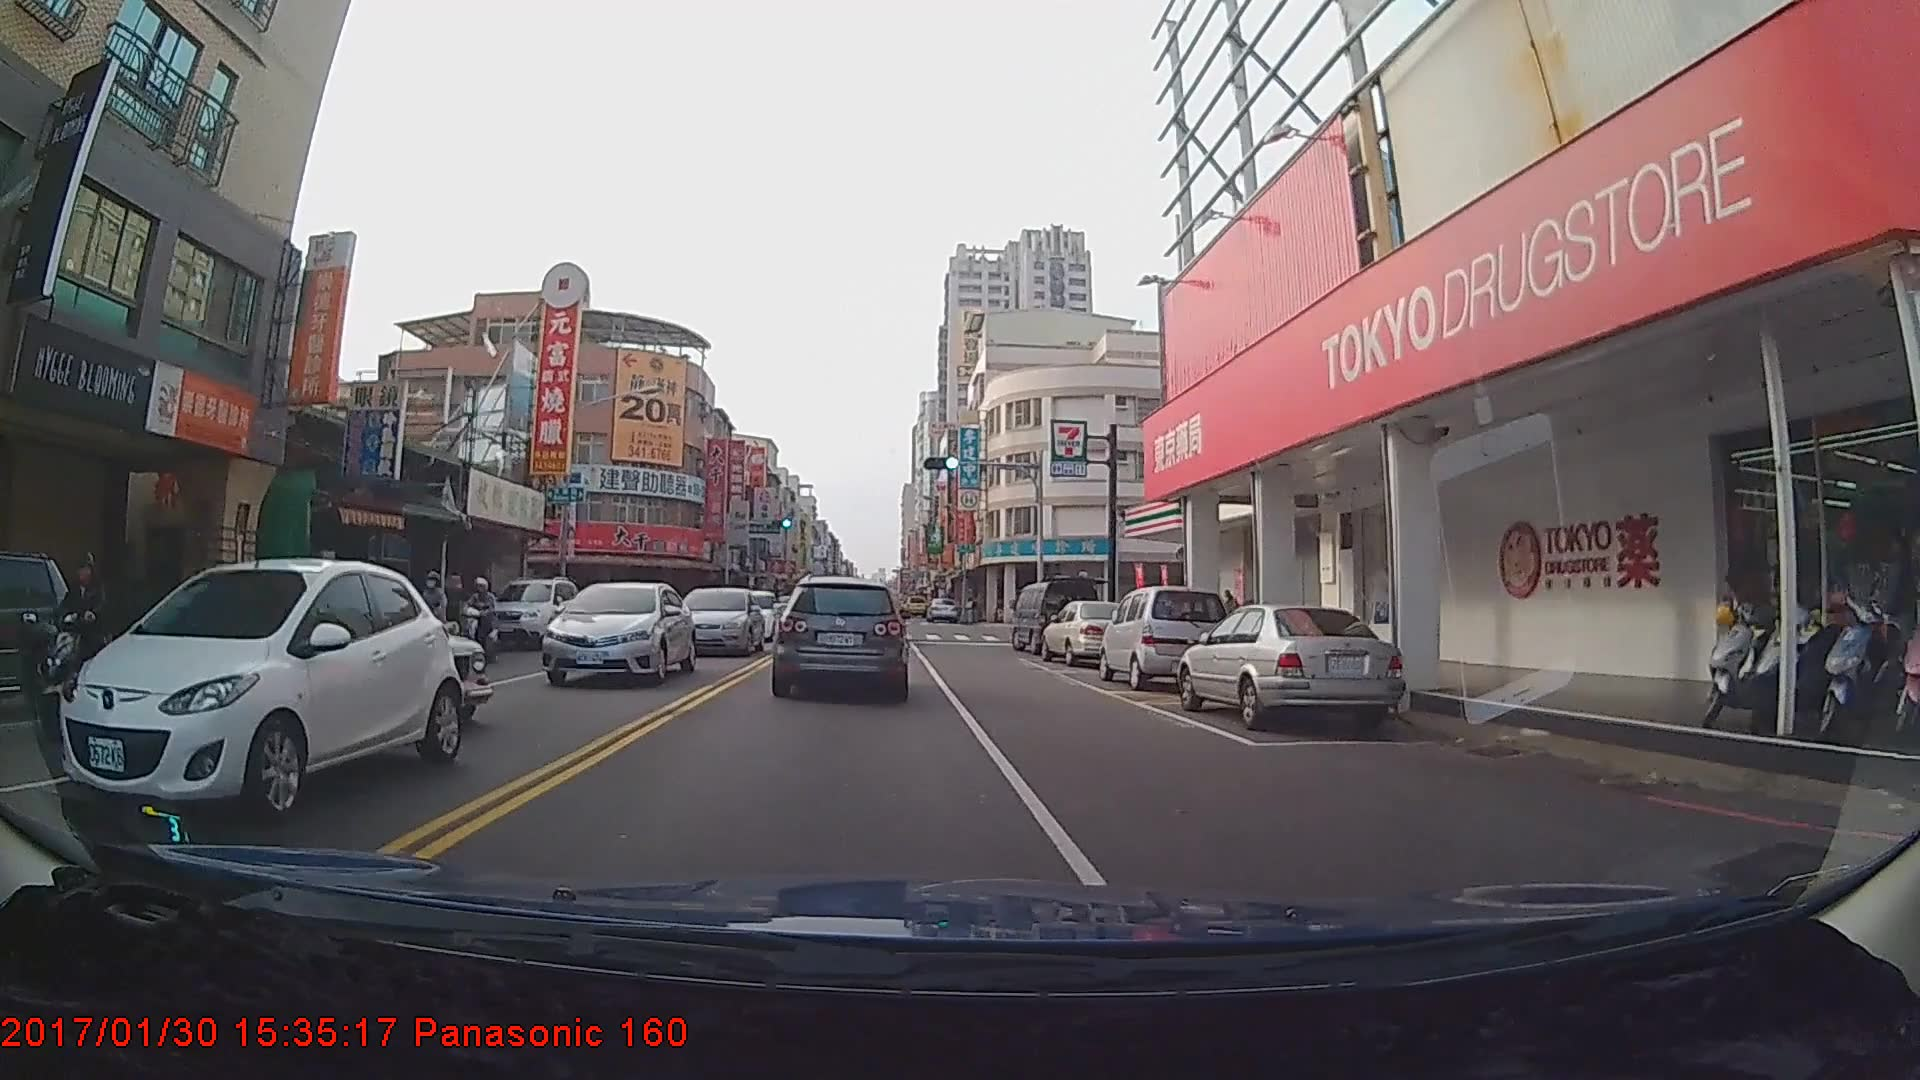rider: (37, 549, 114, 722)
vehicle: (56, 555, 464, 825), (1180, 599, 1404, 733), (536, 582, 688, 690), (777, 577, 905, 698), (1098, 587, 1231, 689), (480, 575, 579, 647), (1011, 579, 1100, 657), (1040, 602, 1139, 669), (673, 585, 764, 657), (924, 595, 958, 620)
